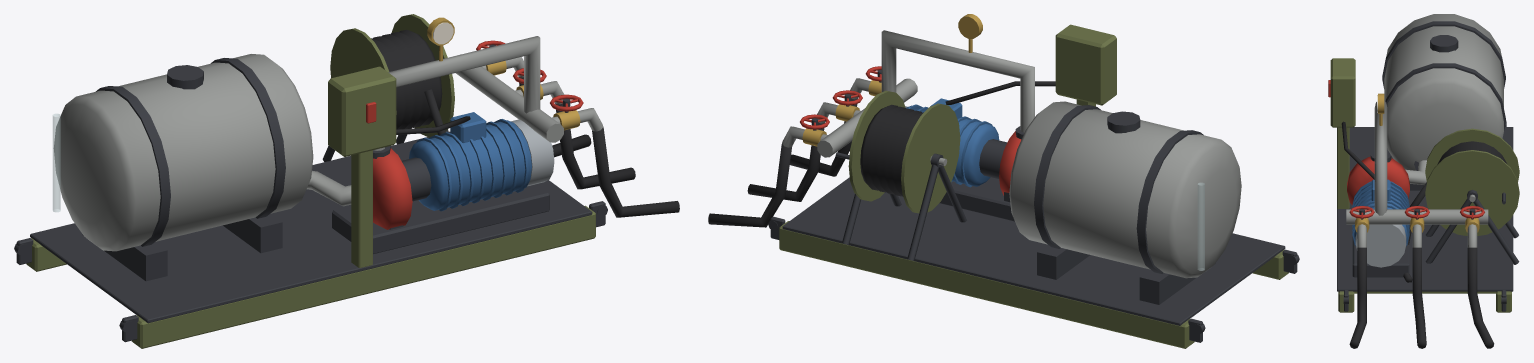
The model's file is deco_irrigation_pump.fbx.
3 views of the same model, side by side, from view 1: azimuth 30°, elevation 25°; view 2: azimuth 150°, elevation 25°; view 3: azimuth 270°, elevation 25° (orthographic). The views are drawn at different scales.
Parts seen in each view (by area): view 1: IrrigationPump_Tank, IrrigationPump_Skid, IrrigationPump_Pipes, IrrigationPump_Pump, IrrigationPump_Reel, IrrigationPump_ReelStand; view 2: IrrigationPump_Tank, IrrigationPump_Skid, IrrigationPump_Pipes, IrrigationPump_Reel, IrrigationPump_Pump, IrrigationPump_ReelStand; view 3: IrrigationPump_Tank, IrrigationPump_Pipes, IrrigationPump_Skid, IrrigationPump_Reel, IrrigationPump_Pump, IrrigationPump_ReelStand, IrrigationPump_ValveA, IrrigationPump_ValveC, IrrigationPump_ValveB.
Boxes of the visible parts, x1=… form: IrrigationPump_Tank: x1=52, y1=54, x2=313, y2=281; IrrigationPump_Skid: x1=14, y1=131, x2=607, y2=348; IrrigationPump_Pipes: x1=307, y1=17, x2=679, y2=267; IrrigationPump_Pump: x1=332, y1=112, x2=554, y2=253; IrrigationPump_Reel: x1=330, y1=14, x2=454, y2=137; IrrigationPump_ReelStand: x1=322, y1=89, x2=448, y2=161; IrrigationPump_Tank: x1=1009, y1=101, x2=1241, y2=304; IrrigationPump_Skid: x1=768, y1=177, x2=1299, y2=348; IrrigationPump_Pipes: x1=708, y1=14, x2=1116, y2=227; IrrigationPump_Reel: x1=835, y1=90, x2=960, y2=213; IrrigationPump_Pump: x1=905, y1=98, x2=1021, y2=221; IrrigationPump_ReelStand: x1=842, y1=153, x2=966, y2=260; IrrigationPump_Tank: x1=1382, y1=14, x2=1505, y2=190; IrrigationPump_Pipes: x1=1328, y1=58, x2=1494, y2=348; IrrigationPump_Skid: x1=1337, y1=120, x2=1513, y2=312; IrrigationPump_Reel: x1=1425, y1=128, x2=1519, y2=235; IrrigationPump_Pump: x1=1347, y1=156, x2=1409, y2=277; IrrigationPump_ReelStand: x1=1403, y1=182, x2=1519, y2=282; IrrigationPump_ValveA: x1=1349, y1=206, x2=1374, y2=218; IrrigationPump_ValveC: x1=1460, y1=206, x2=1484, y2=218; IrrigationPump_ValveB: x1=1404, y1=206, x2=1429, y2=218.
Size of the model in its own units: 309 by 122 by 121.
